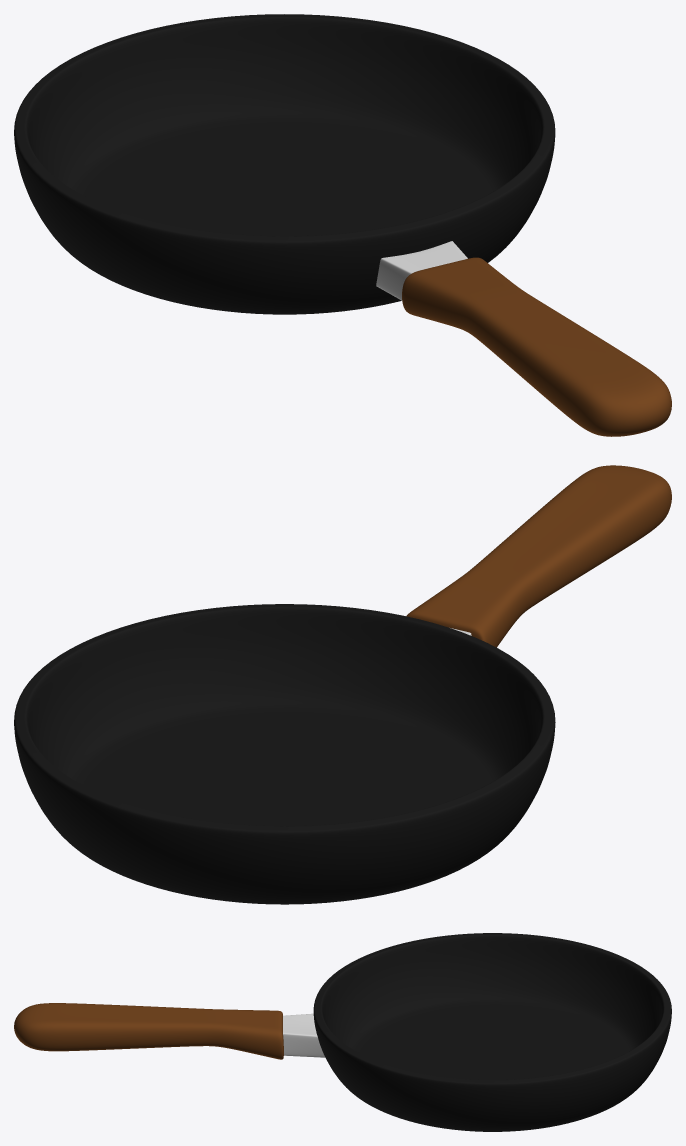
The model's file is FryingPan.fbx.
3 views of the same model, one above another, from view 1: azimuth 30°, elevation 25°; view 2: azimuth 150°, elevation 25°; view 3: azimuth 270°, elevation 25° (orthographic). The views are drawn at different scales.
Visible parts, largest first — view 1: Frying pan, Mango, Agarre; view 2: Frying pan, Mango; view 3: Frying pan, Mango, Agarre.
Boxes of the visible parts, left/top/right/bottom form: Frying pan: left=14, top=14, right=555, bottom=314; Mango: left=402, top=257, right=671, bottom=436; Agarre: left=376, top=241, right=467, bottom=300; Frying pan: left=14, top=604, right=555, bottom=904; Mango: left=406, top=465, right=671, bottom=647; Frying pan: left=313, top=933, right=671, bottom=1131; Mango: left=14, top=1003, right=283, bottom=1059; Agarre: left=283, top=1013, right=325, bottom=1057.
Size of the model in its own units: 237 by 46.4 by 436.
